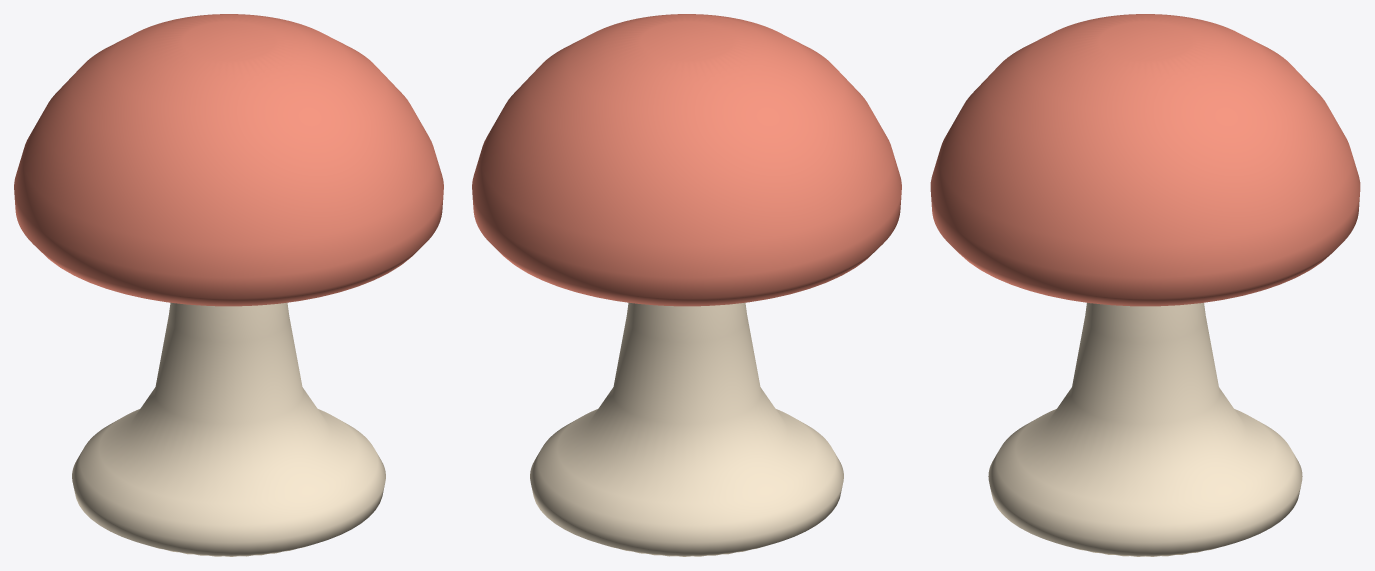
The model's file is lamp_b.glb.
The picture shows the model from 3 angles, left to right: view 1: azimuth 30°, elevation 25°; view 2: azimuth 150°, elevation 25°; view 3: azimuth 270°, elevation 25°; orthographic projection.
Parts seen in each view (by area): view 1: body; view 2: body; view 3: body.
Boxes of the visible parts, <box> form: body: <box>14,14,443,556</box>; body: <box>472,14,901,556</box>; body: <box>930,14,1360,556</box>.
Size of the model in its own units: 0.3416 by 0.4096 by 0.3416.
